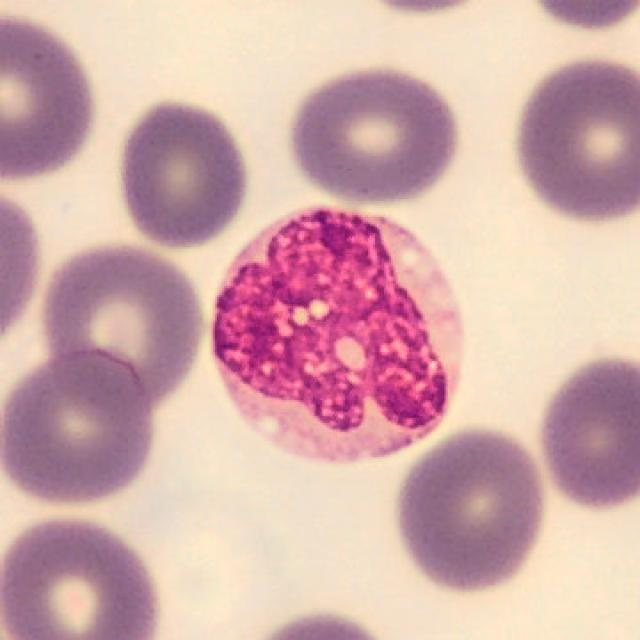Monocito: (210, 208, 466, 468)
